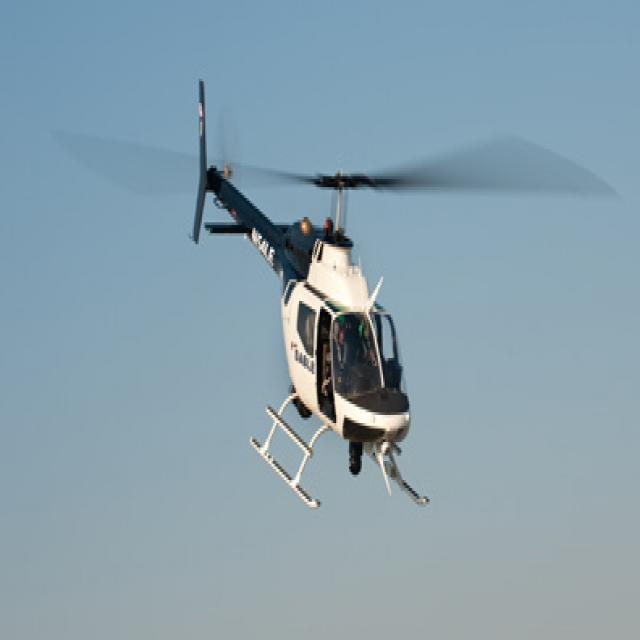helicopter: (190, 80, 513, 514)
